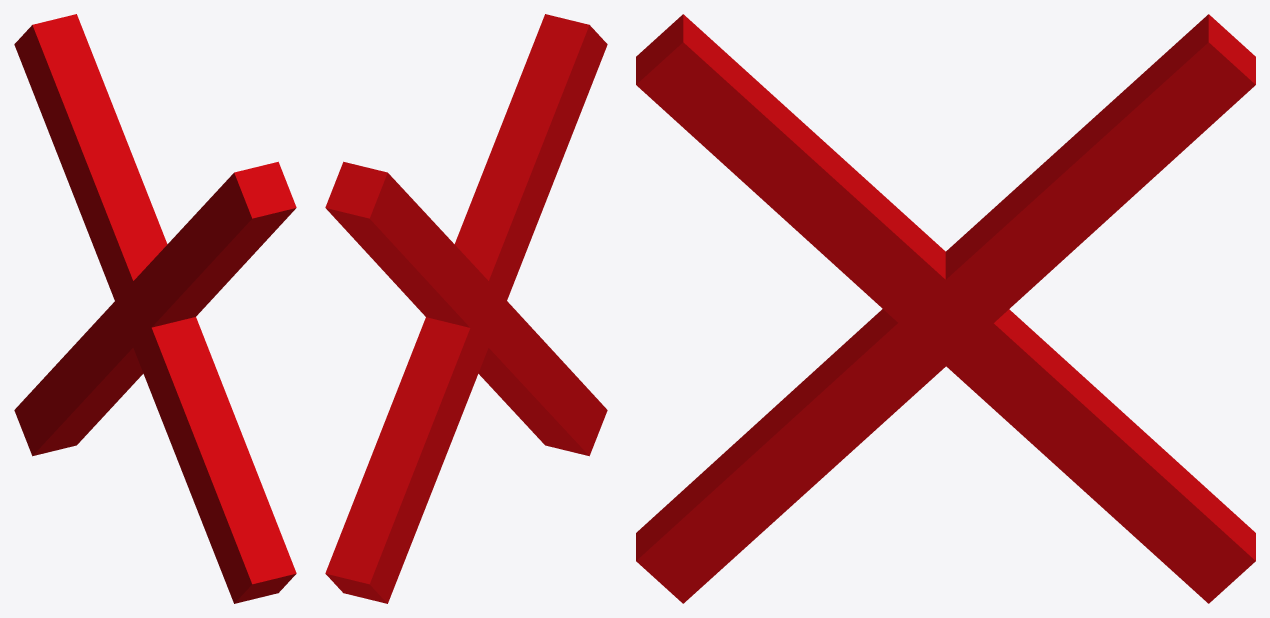
3 renders of one model, left to right at view 1: azimuth 30°, elevation 25°; view 2: azimuth 150°, elevation 25°; view 3: azimuth 270°, elevation 25°, orthographic. The views are drawn at different scales.
Visible parts, largest first — view 1: X; view 2: X; view 3: X.
Part boxes in pixels (<box>): X: <box>14,14,296,603</box>; X: <box>325,14,607,603</box>; X: <box>636,14,1255,603</box>.
Bounding box in the file's own units: 31.85 × 296 × 296.
